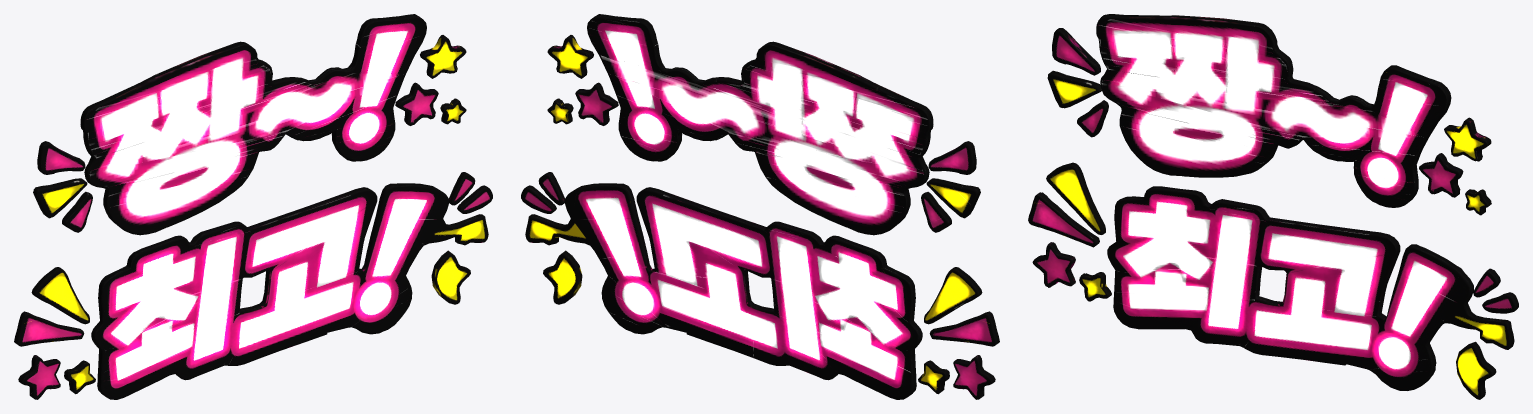
Rendered from text-best-ani.glb.
3 renders of one model, left to right at view 1: azimuth 30°, elevation 25°; view 2: azimuth 150°, elevation 25°; view 3: azimuth 330°, elevation 25°, orthographic. The views are drawn at different scales.
Parts seen in each view (by area): view 1: Mesh_0.003; view 2: Mesh_0.003; view 3: Mesh_0.003.
Boxes of the visible parts, <box> form: Mesh_0.003: <box>14,14,492,399</box>; Mesh_0.003: <box>521,14,999,399</box>; Mesh_0.003: <box>1028,14,1518,399</box>.
Bounding box in the file's own units: 1.91 × 1.24 × 0.0313.
Materials: 1 (1 with a texture image).
